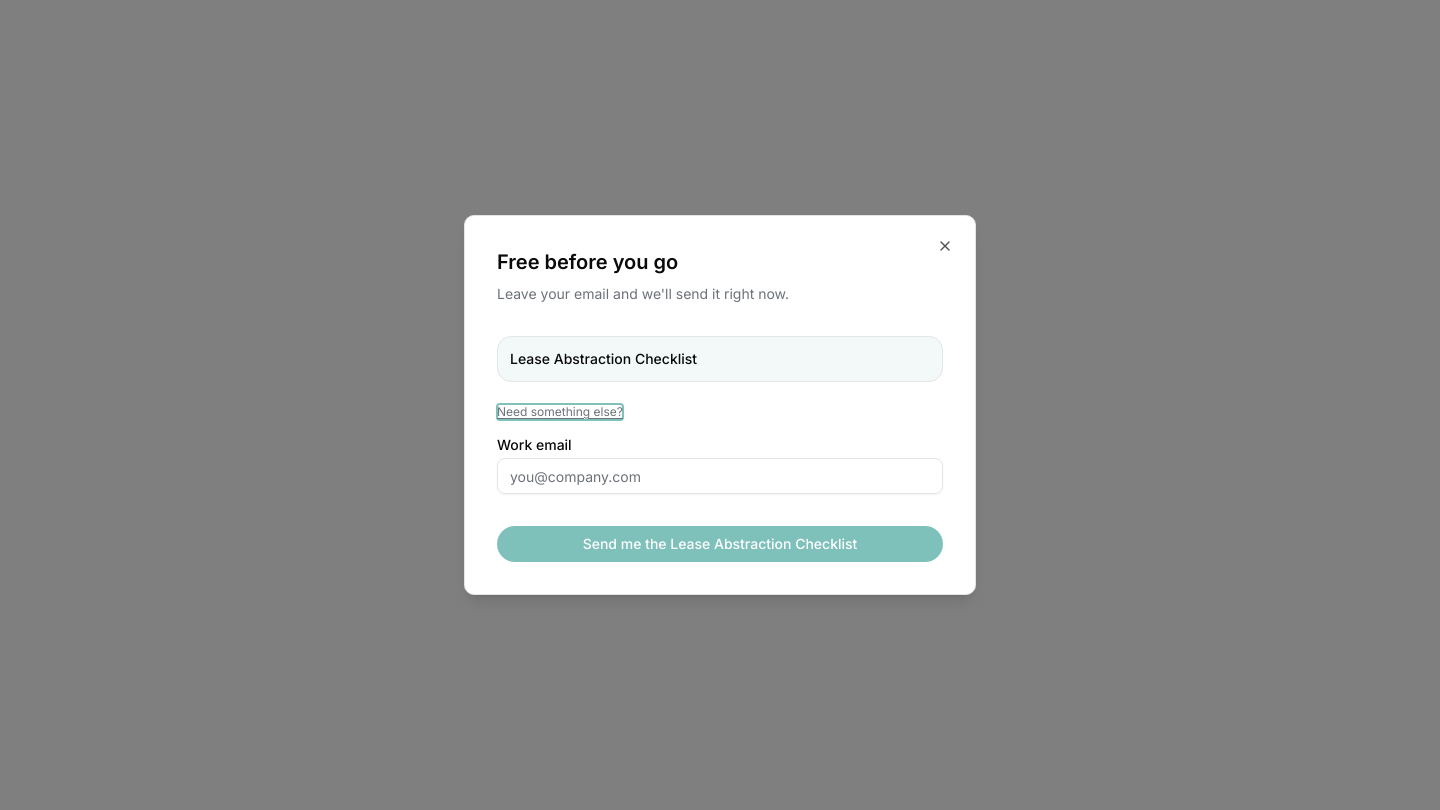
Test case: ExitPopup › Swap disclosure › updates the CTA title when a different magnet is selected
The width and height of the screenshot is (1440, 810).
Expected: the dialog is shown, [464,215,976,595]
Click the button "Need something else?": (560,412) [497,404,623,420]
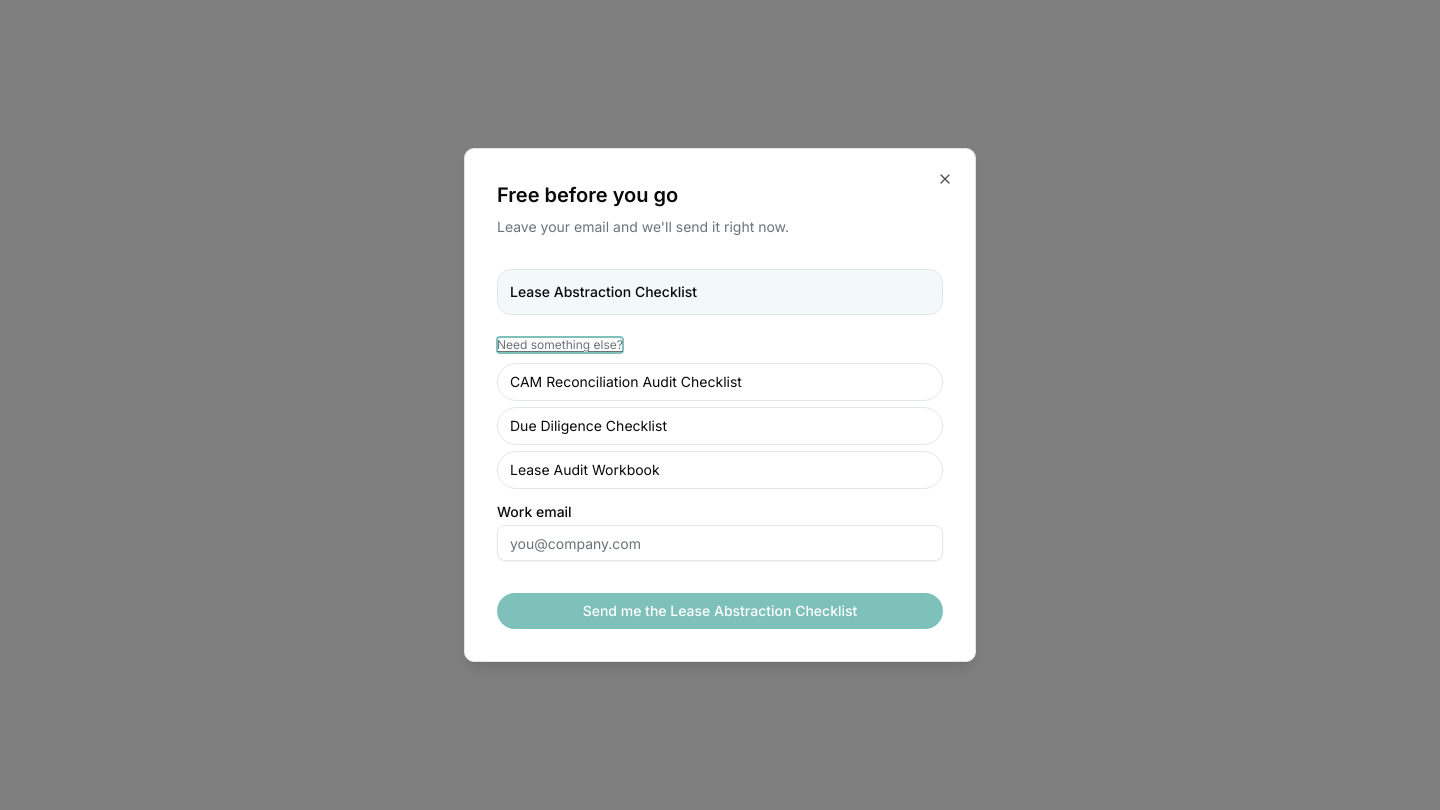
Click the button "Due Diligence Checklist": (588,426) [497,407,943,445]
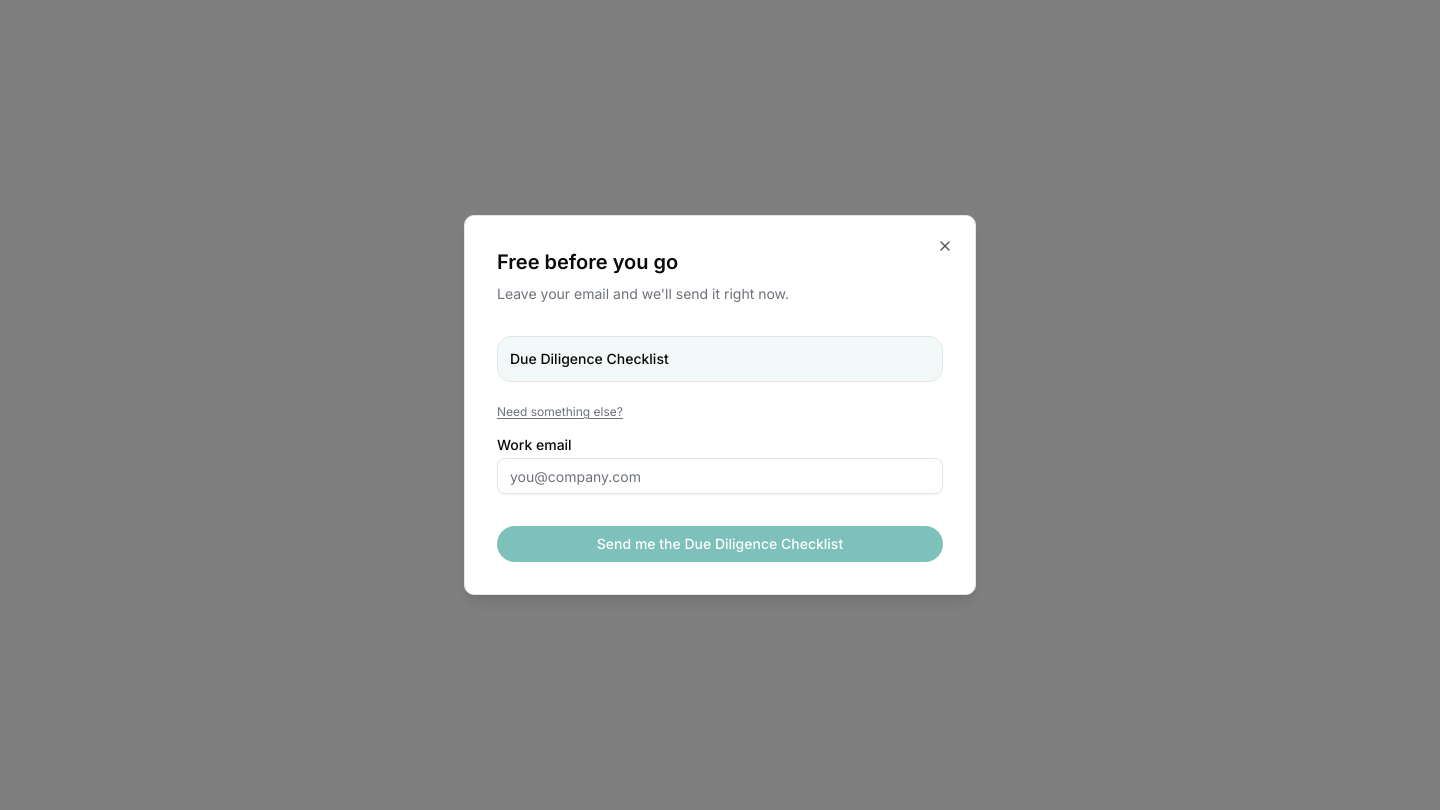
Now the button "Send me the Due Diligence Checklist" is shown, box [497,526,943,562]
